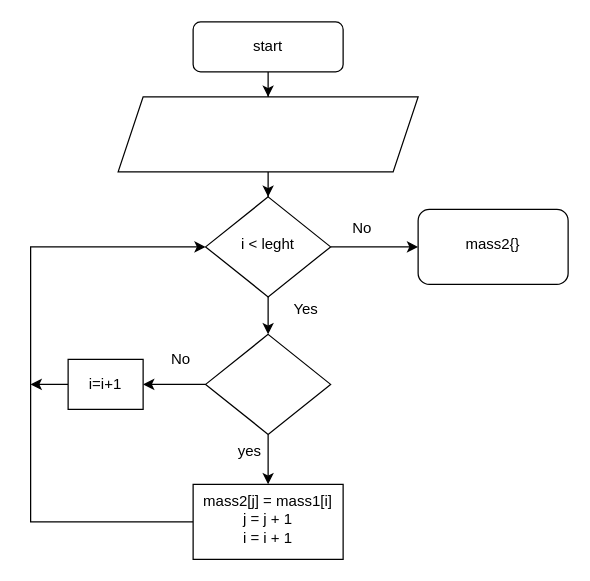
The diagram is 590 pixels wide and 581 high, and some of its shapes have lost their labels. Each missing label, with the centre of its shape:
mass1 = {"asdf", ""qwe", "zxcv", "qazxsw", "qaz"} mass2 = {} j=0: point (267, 134)
mass1[i] <=3: point (267, 383)
